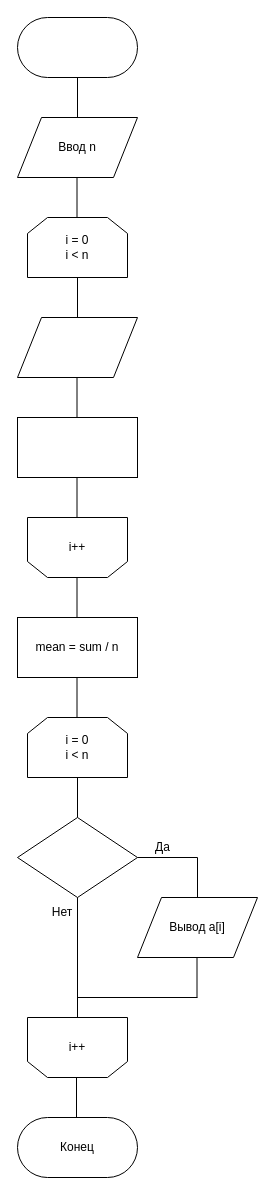
Image size: 275x1195. Some labels were removed from this diagram. The centre of each missing label's shape, as x and y in pixels:
a[i] > mean: (x=77, y=857)
sum += a[i]: (x=77, y=447)
Ввод a[i]: (x=77, y=347)
Начало: (x=77, y=47)
